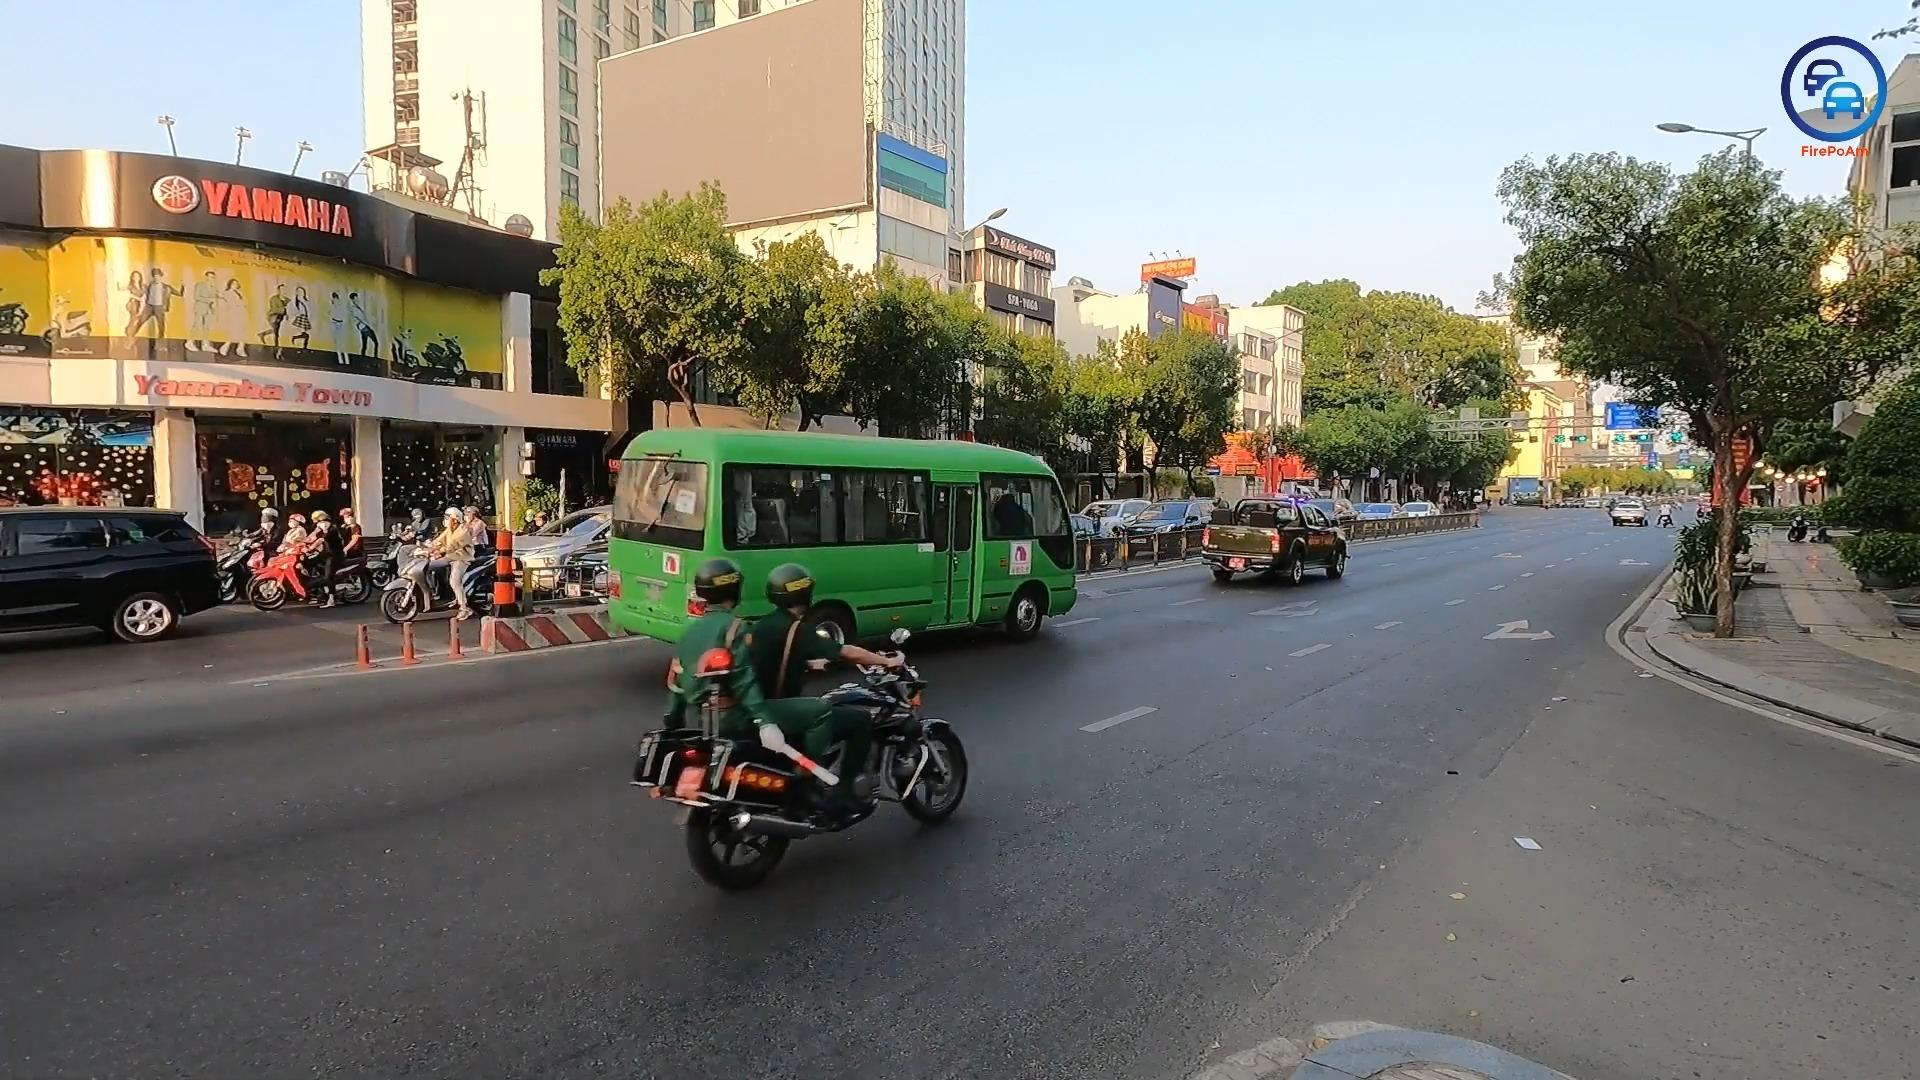bien_so: (675, 763, 706, 800), (1228, 556, 1246, 569)
